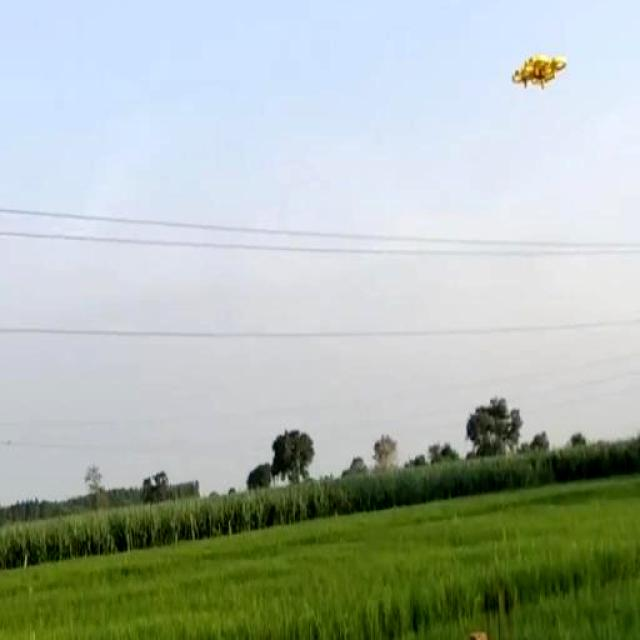bird: (510, 42, 568, 90)
